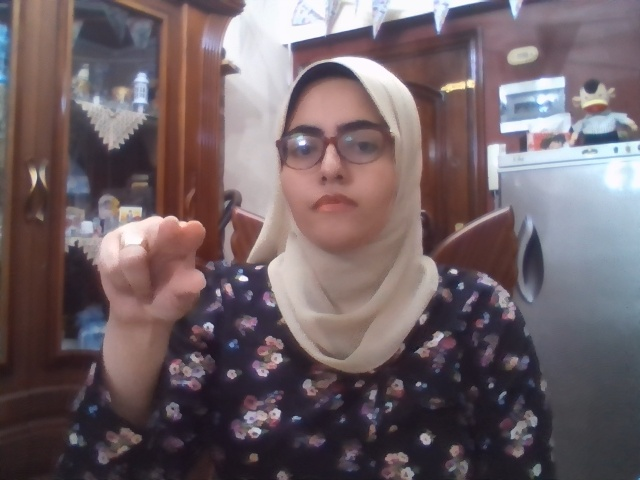no: (99, 215, 207, 322)
